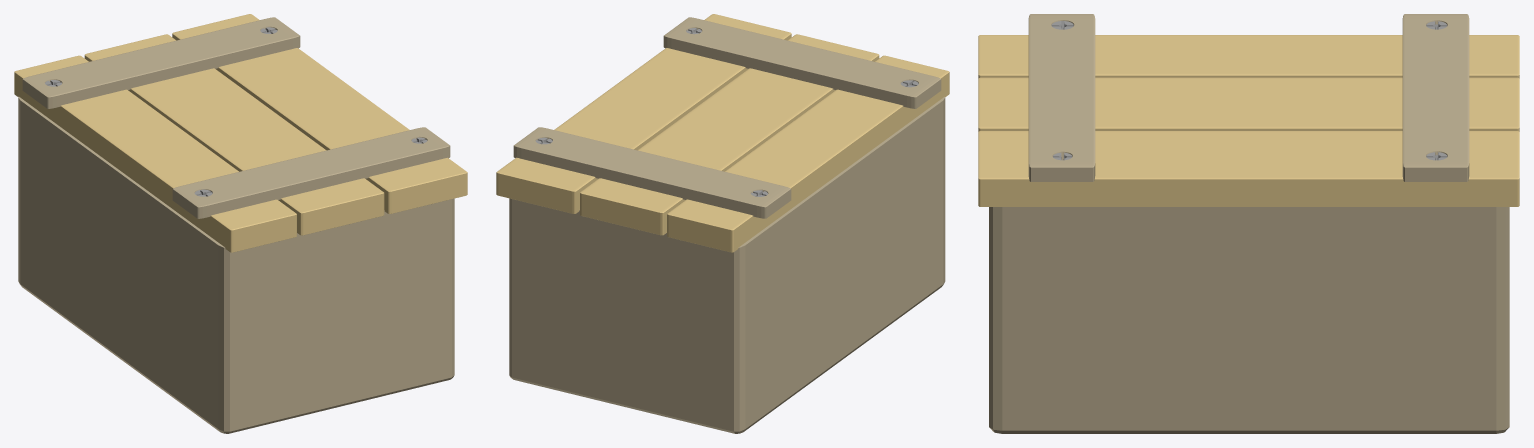
3 renders of one model, left to right at view 1: azimuth 30°, elevation 25°; view 2: azimuth 150°, elevation 25°; view 3: azimuth 270°, elevation 25°, orthographic. The views are drawn at different scales.
Parts seen in each view (by area): view 1: Cube, Cube.006, Cube.001, Cube.008, Cube.003, Cube.002; view 2: Cube, Cube.006, Cube.001, Cube.008, Cube.003, Cube.002; view 3: Cube, Cube.008, Cube.001, Cube.006, Cube.003, Cube.002.
Part boxes in pixels (x1,y1,x2,y2): Cube: (18,96,454,433); Cube.006: (14,55,296,252); Cube.001: (84,34,384,235); Cube.008: (172,14,467,213); Cube.003: (172,127,450,218); Cube.002: (22,17,300,108); Cube: (509,97,945,433); Cube.006: (667,55,949,252); Cube.001: (580,34,879,235); Cube.008: (496,14,791,213); Cube.003: (663,17,941,108); Cube.002: (513,127,791,218); Cube: (989,207,1509,433); Cube.008: (978,131,1519,206); Cube.001: (978,77,1519,131); Cube.006: (978,35,1519,78); Cube.003: (1028,14,1095,181); Cube.002: (1402,14,1469,181).
Bounding box in the file's own units: 2.8 × 2.34 × 4.18.
